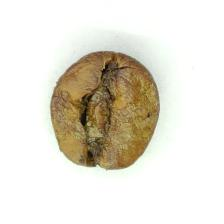NG: (70, 65, 140, 159)
